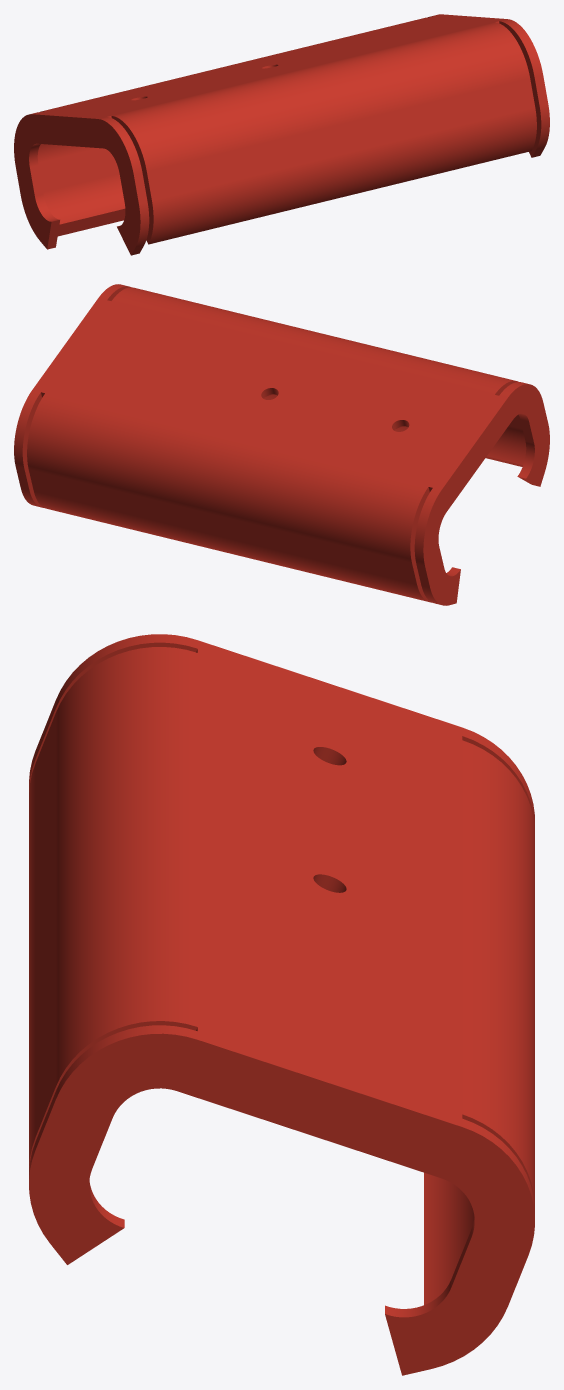
The model's file is EBoxNewAsm_stp_1_PowerMeter_stp_1_PowerMeterHolder_stp_1_solid1.obj.
The picture shows the model from 3 angles, top to bottom: view 1: azimuth 30°, elevation 25°; view 2: azimuth 150°, elevation 25°; view 3: azimuth 270°, elevation 25°; orthographic projection. The views are drawn at different scales.
Visible parts, largest first — view 1: mesh10097, mesh10094, mesh10098, mesh10101, mesh10117, mesh10082, mesh10081, mesh10083, mesh10135, mesh10096, mesh10080, mesh10102 (+4 smaller); view 2: mesh10101, mesh10087, mesh10088, mesh10097, mesh10117, mesh10084, mesh10092, mesh10118, mesh10121, mesh10135, mesh10086; view 3: mesh10101, mesh10097, mesh10136, mesh10087, mesh10098, mesh10082, mesh10094, mesh10137, mesh10102, mesh10116, mesh10095.
Boxes of the visible parts, bbox=[...] form: mesh10097: bbox=[111, 22, 529, 171]; mesh10094: bbox=[148, 107, 536, 244]; mesh10098: bbox=[147, 78, 534, 200]; mesh10101: bbox=[32, 14, 507, 118]; mesh10117: bbox=[14, 114, 140, 254]; mesh10082: bbox=[43, 173, 125, 224]; mesh10081: bbox=[38, 148, 119, 191]; mesh10083: bbox=[57, 208, 125, 236]; mesh10135: bbox=[427, 16, 541, 157]; mesh10096: bbox=[111, 116, 153, 243]; mesh10080: bbox=[37, 144, 98, 162]; mesh10102: bbox=[99, 117, 142, 174]; mesh10101: bbox=[32, 298, 507, 489]; mesh10087: bbox=[27, 393, 428, 562]; mesh10088: bbox=[29, 470, 416, 584]; mesh10097: bbox=[111, 287, 515, 394]; mesh10117: bbox=[423, 384, 549, 605]; mesh10084: bbox=[34, 491, 428, 601]; mesh10092: bbox=[264, 394, 526, 464]; mesh10118: bbox=[414, 488, 441, 566]; mesh10121: bbox=[14, 390, 40, 468]; mesh10135: bbox=[22, 286, 130, 507]; mesh10086: bbox=[410, 487, 431, 602]; mesh10101: bbox=[197, 640, 462, 1126]; mesh10097: bbox=[56, 647, 197, 1085]; mesh10136: bbox=[29, 1033, 534, 1375]; mesh10087: bbox=[462, 740, 534, 1200]; mesh10098: bbox=[35, 713, 55, 1136]; mesh10082: bbox=[424, 1172, 474, 1304]; mesh10094: bbox=[29, 764, 35, 1165]; mesh10137: bbox=[56, 1025, 197, 1098]; mesh10102: bbox=[56, 634, 197, 707]; mesh10116: bbox=[29, 642, 534, 826]; mesh10095: bbox=[29, 1021, 197, 1169].
Size of the model in its own units: 0.094 by 0.0375 by 0.0503.
